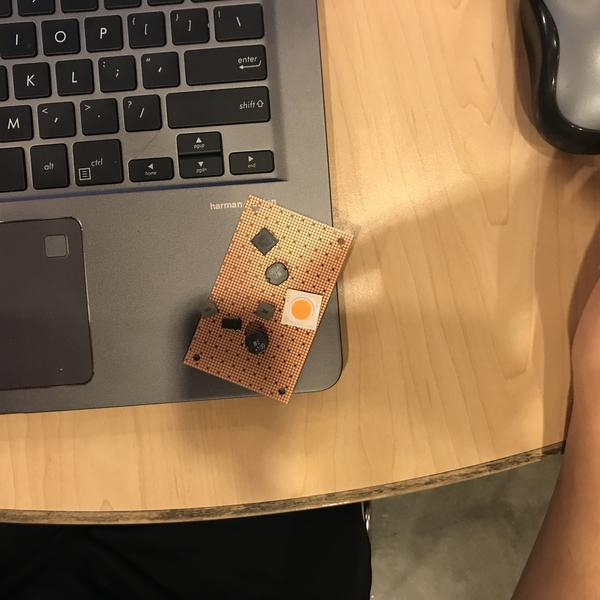board: (180, 193, 356, 406)
